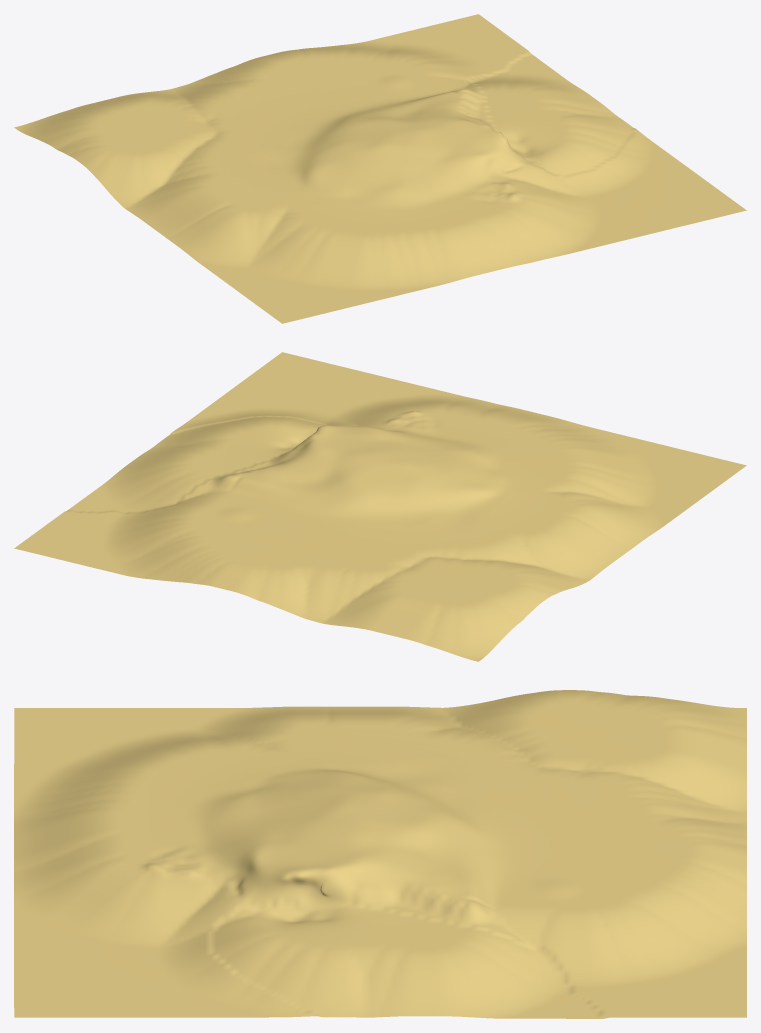
Rendered from portfolio-island-terrain.glb.
3 views of the same model, one above another, from view 1: azimuth 30°, elevation 25°; view 2: azimuth 150°, elevation 25°; view 3: azimuth 270°, elevation 25° (orthographic). The views are drawn at different scales.
Visible parts, largest first — view 1: Terrain; view 2: Terrain; view 3: Terrain.
Part boxes in pixels (x1,y1,x2,y2): Terrain: (14,14,746,323); Terrain: (14,352,746,661); Terrain: (14,690,746,1018).
Bounding box in the file's own units: 256 × 19.93 × 256.
